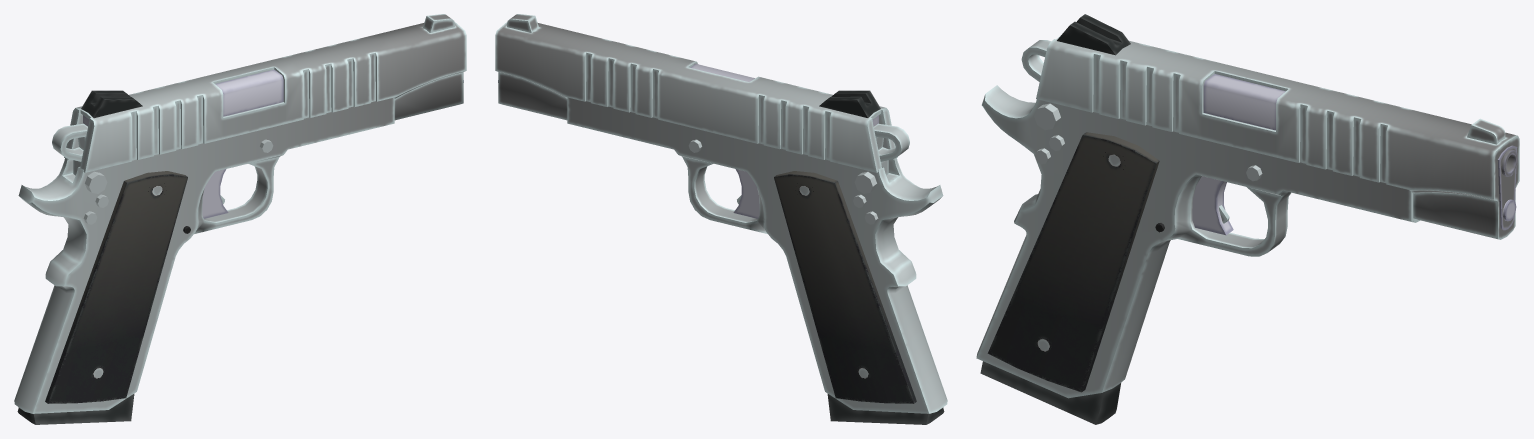
The model's file is pistol.glb.
3 renders of one model, left to right at view 1: azimuth 30°, elevation 25°; view 2: azimuth 150°, elevation 25°; view 3: azimuth 330°, elevation 25°, orthographic. The views are drawn at different scales.
Parts seen in each view (by area): view 1: ESMO_CC0_Pistol; view 2: ESMO_CC0_Pistol; view 3: ESMO_CC0_Pistol.
Part boxes in pixels (bbox=[...]): ESMO_CC0_Pistol: bbox=[14, 14, 466, 424]; ESMO_CC0_Pistol: bbox=[495, 14, 947, 424]; ESMO_CC0_Pistol: bbox=[976, 14, 1519, 424].
Bounding box in the file's own units: 0.5732 × 0.4055 × 0.0633.
1 material, 1 textured.
